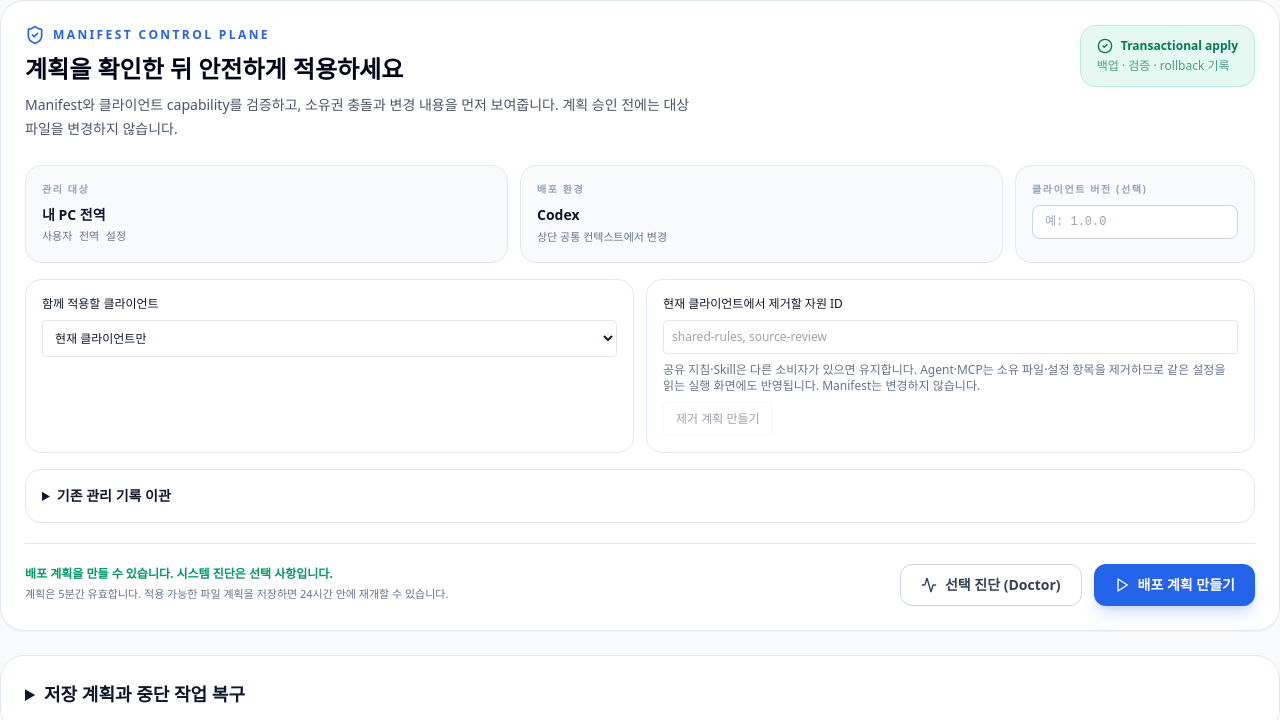
Test: saves a reviewed plan and resumes only after an explicit saved-plan approval
The width and height of the screenshot is (1280, 720).
Click the button "배포 계획 만들기": (1174, 584) [1094,564,1255,606]
(page scrolled)
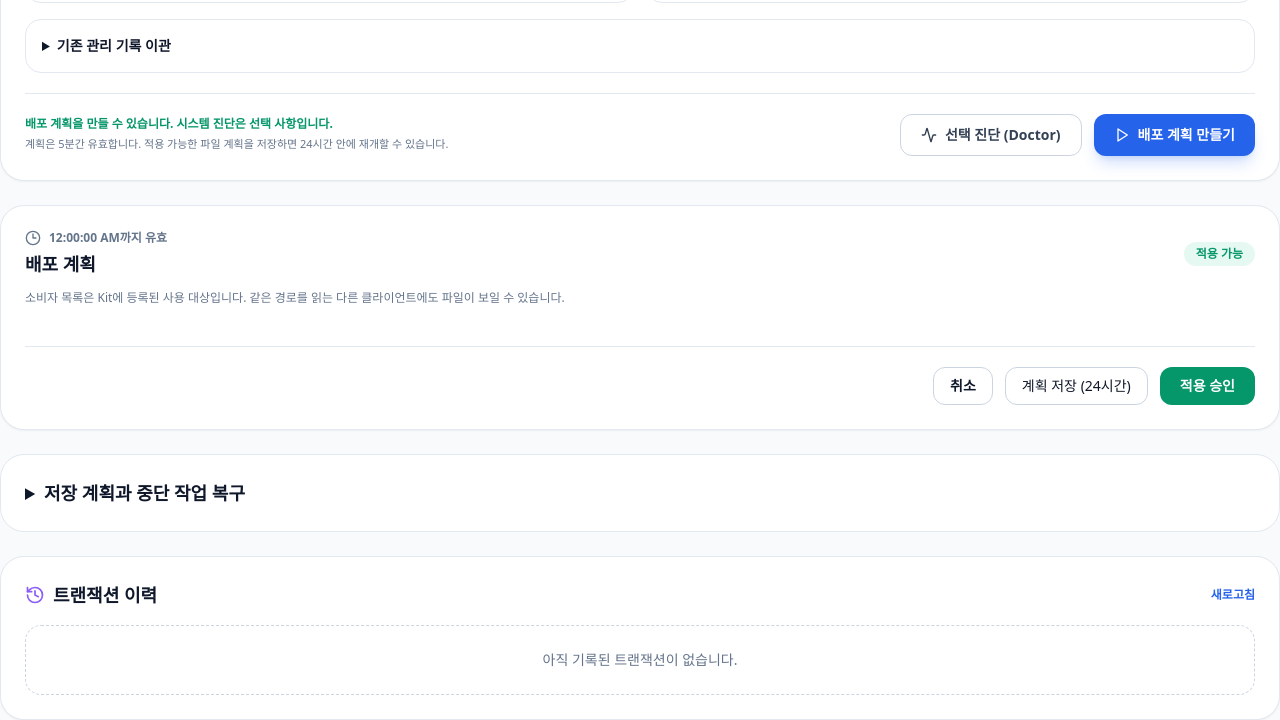
Click the button "계획 저장 (24시간)": (1076, 386) [1005,366,1148,404]
(page scrolled)
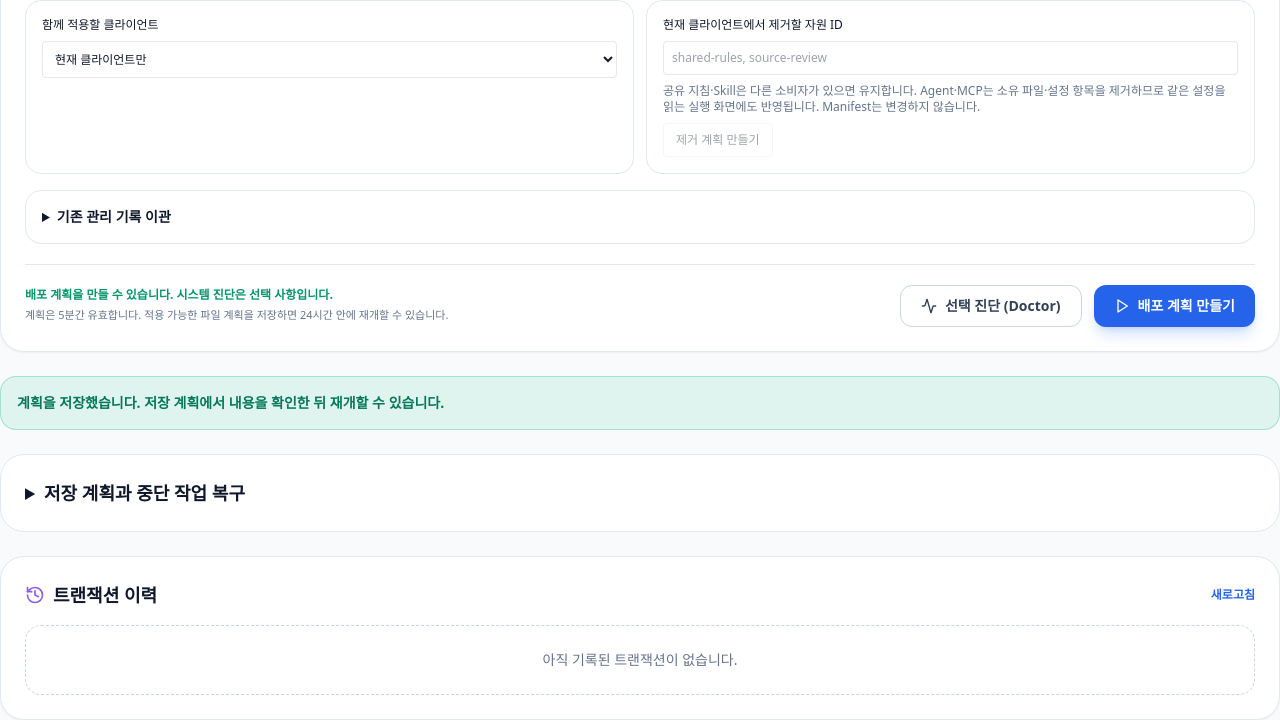
Click the heading "저장 계획과 중단 작업 복구": (145, 492) [44,480,245,504]
(page scrolled)
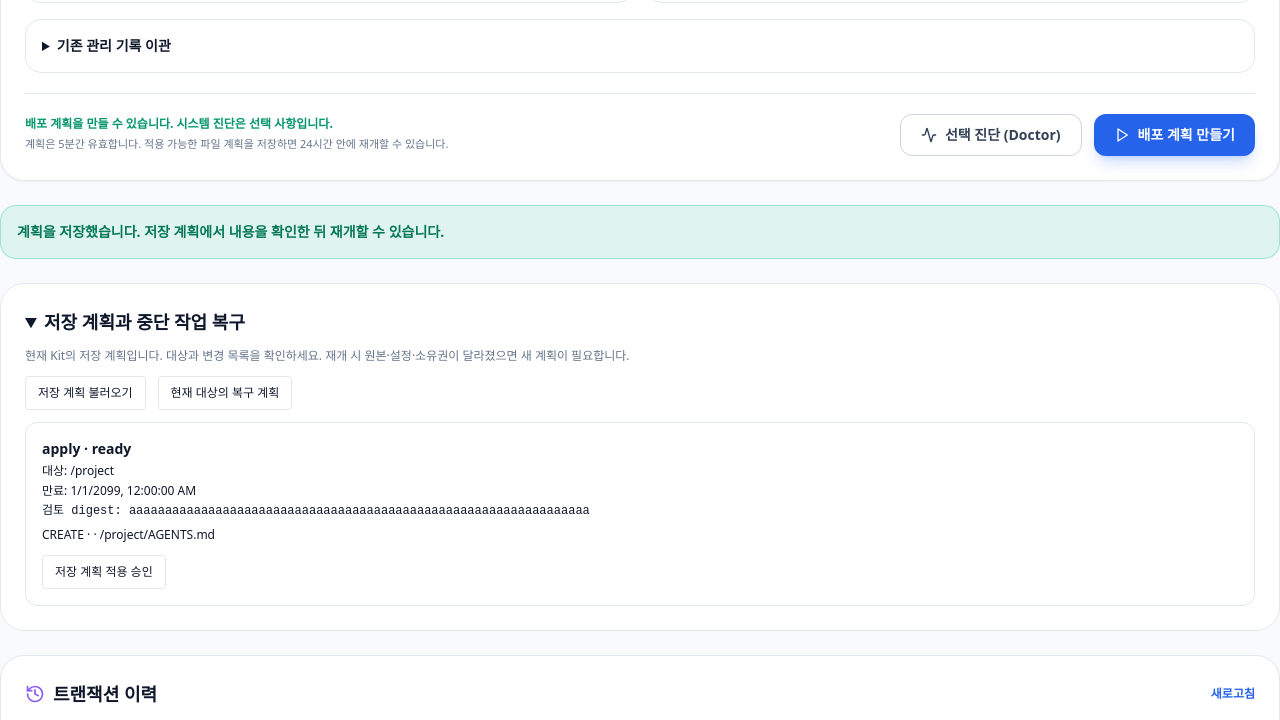
Click the button "저장 계획 적용 승인": (104, 572) [42,554,166,588]
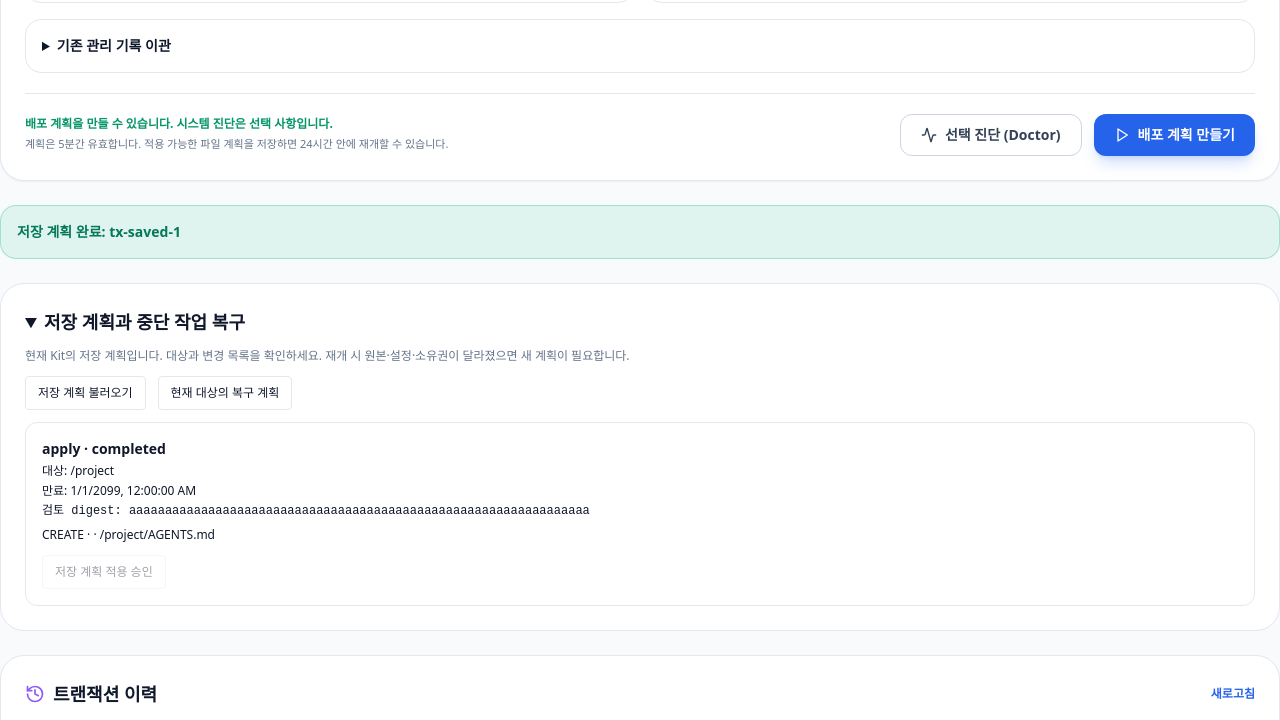
Expected: the button "저장 계획 적용 승인" is disabled, [42,554,166,588]
